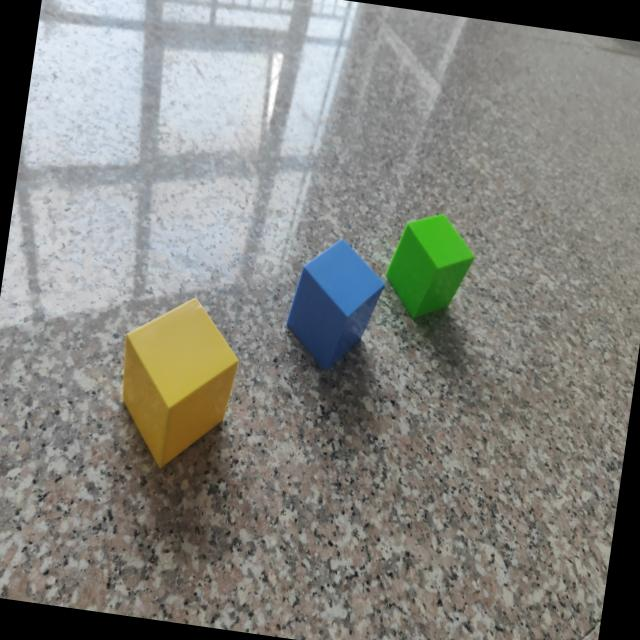blue: (286, 241, 385, 374)
green: (386, 216, 474, 321)
yellow: (121, 300, 239, 468)
